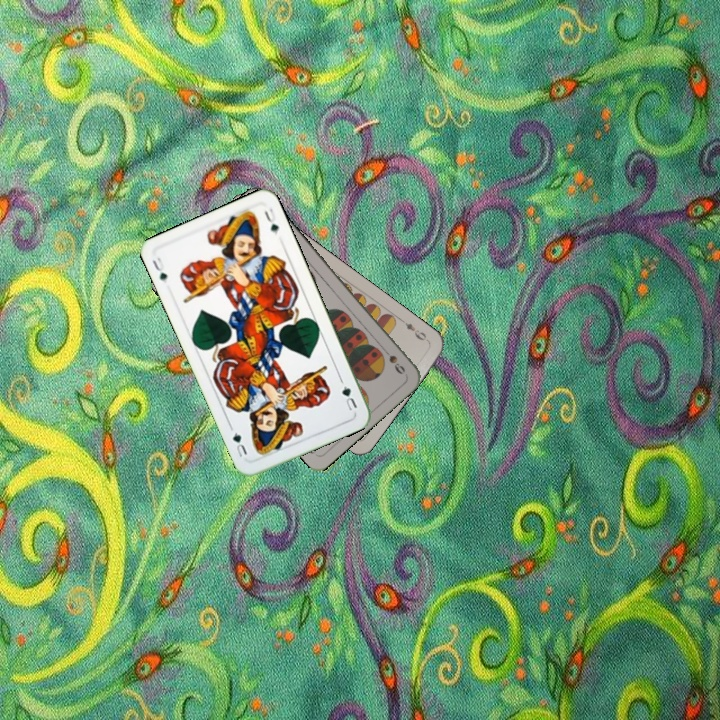E9: (397, 315, 432, 344)
GU: (336, 376, 360, 413), (148, 253, 170, 284)
S9: (378, 343, 408, 377)
